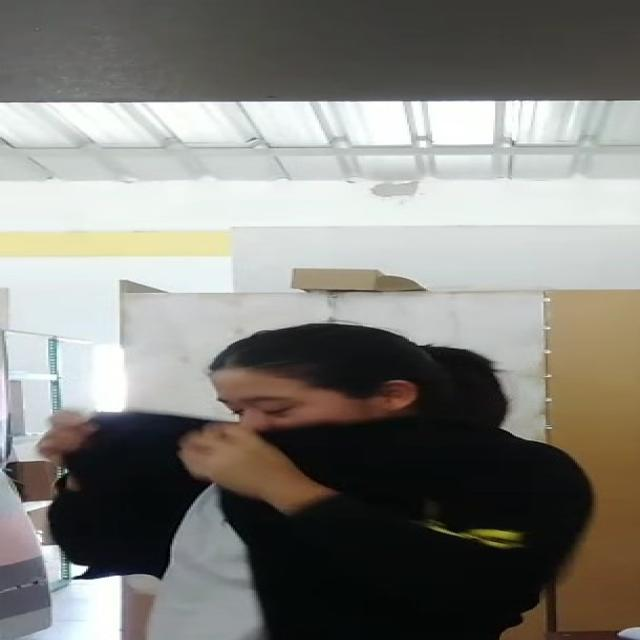8_ropa_rostro: (182, 410, 454, 522)
